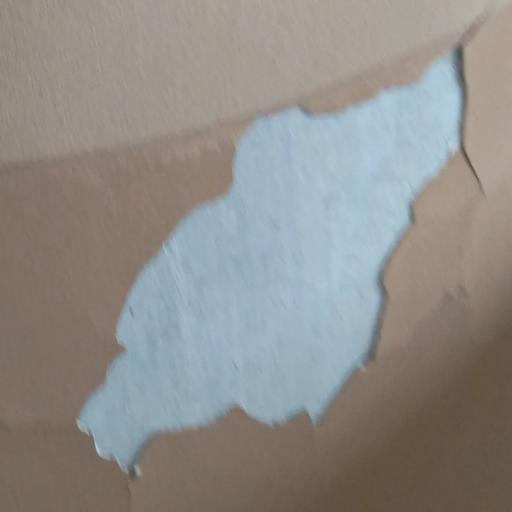peeling: (71, 0, 512, 512)
